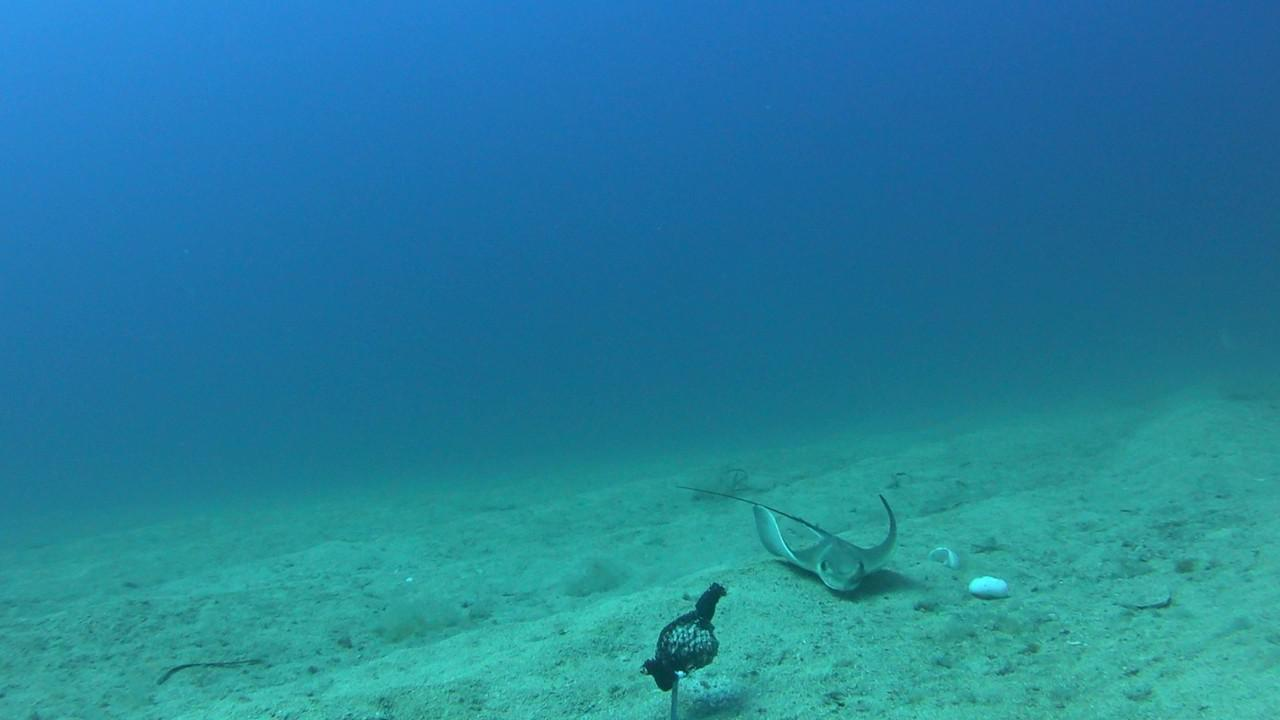myliobatis: (661, 465, 905, 592)
